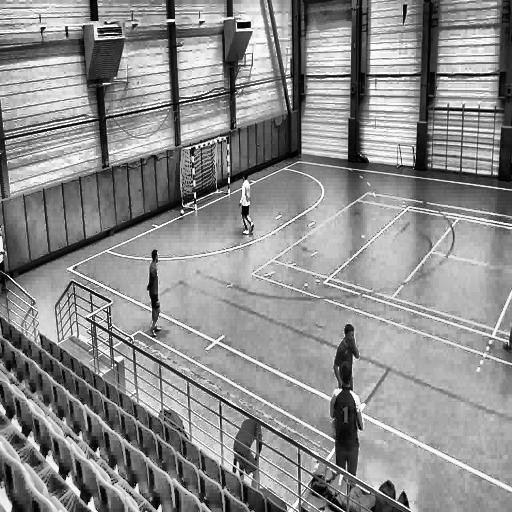ball: (179, 205, 186, 220)
player: (332, 362, 362, 478), (331, 321, 359, 385), (144, 247, 163, 341), (239, 171, 254, 238)
